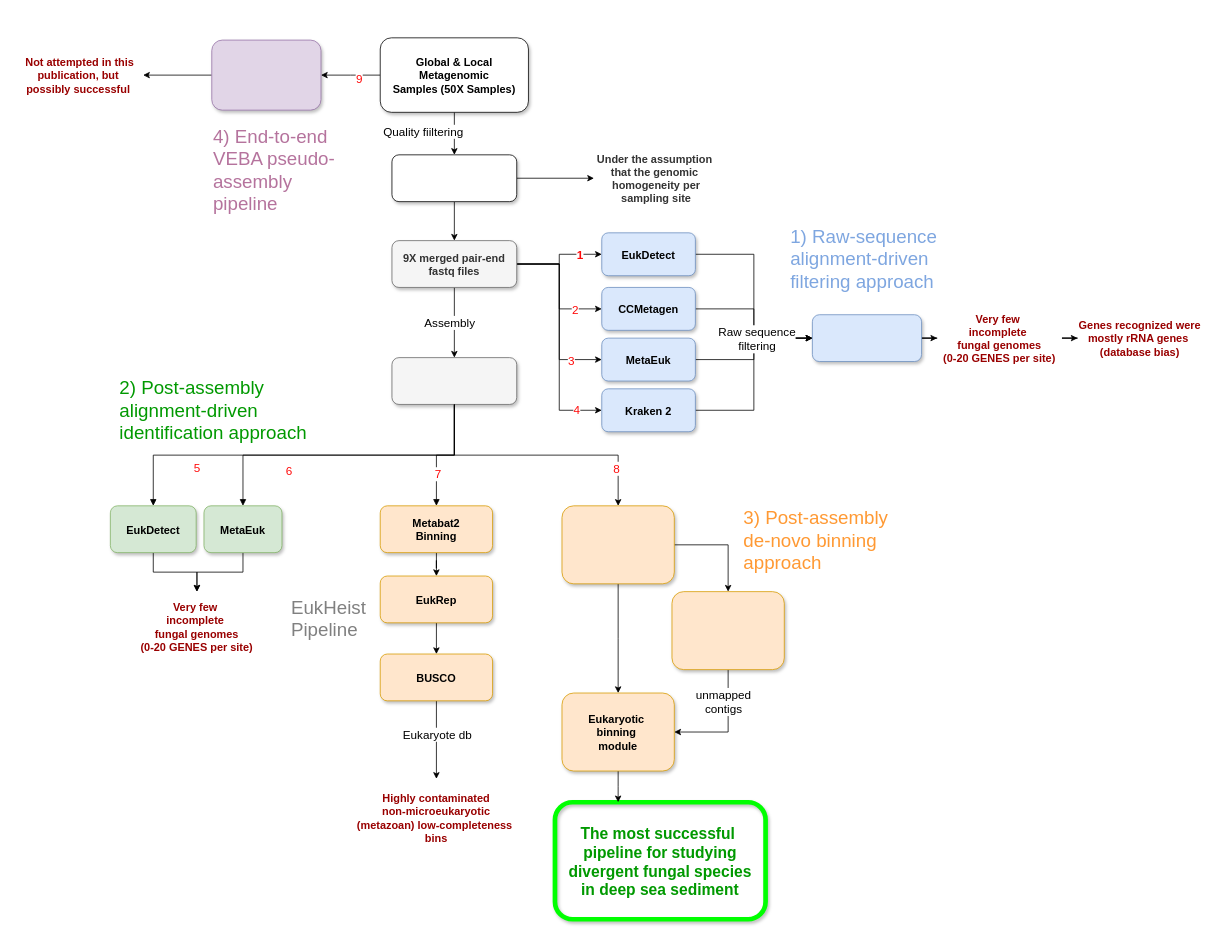
Image size: 1220x941. Some labels were removed from this diagram. Here are the shapes that lost their labels. From the top down, the centre of each, then its label:
At (267,76): "VEBA Sample-based Pseudoassembly".
At (454,179): "Merge samples from same region".
At (867,339): "ASSEMBLY Using MEGAHIT".
At (454,382): "9X Assembled fasta files (MEGAHIT)".
At (618,545): "VEBA Site-based Pseuo-assembly Pipeline".
At (728,631): "Prokaryotic binning module".
